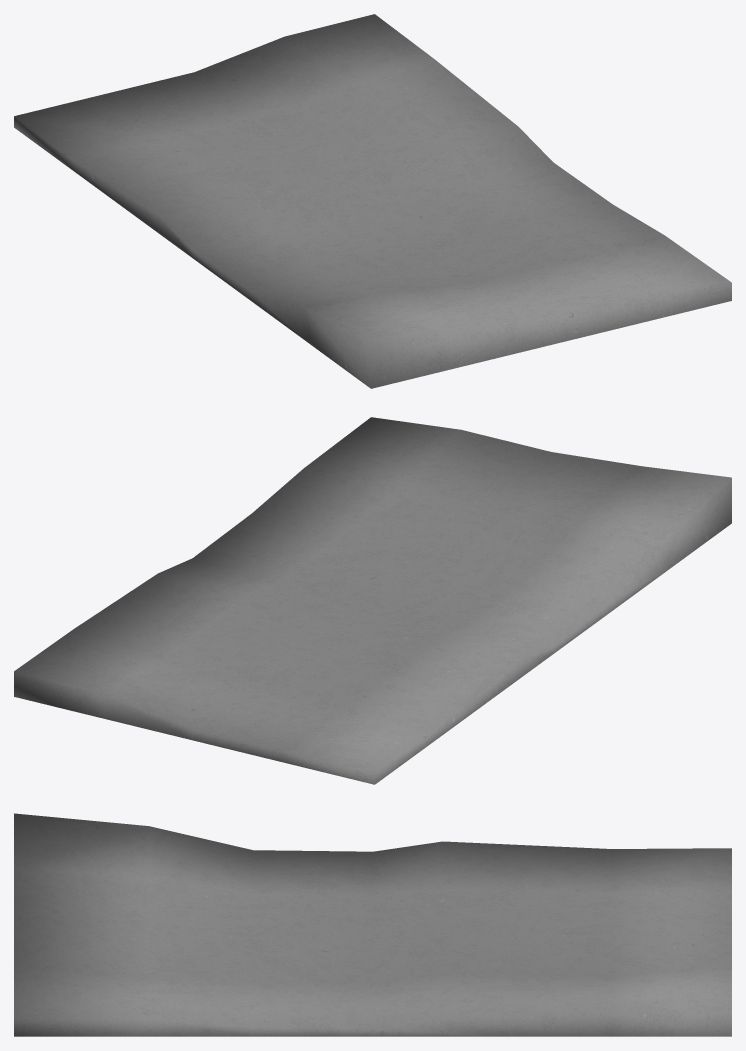
File: Homeworld_Interior_Common_Thing_Prop_Fishbowl_02_Vo.fbx
3 views of the same model, one above another, from view 1: azimuth 30°, elevation 25°; view 2: azimuth 150°, elevation 25°; view 3: azimuth 270°, elevation 25° (orthographic).
Parts seen in each view (by area): view 1: Homeworld_Interior_Common_Thing_Prop_Fishbowl_02_Vo; view 2: Homeworld_Interior_Common_Thing_Prop_Fishbowl_02_Vo; view 3: Homeworld_Interior_Common_Thing_Prop_Fishbowl_02_Vo.
Part boxes in pixels (x1,y1,x2,y2): Homeworld_Interior_Common_Thing_Prop_Fishbowl_02_Vo: (14,14,731,388); Homeworld_Interior_Common_Thing_Prop_Fishbowl_02_Vo: (14,417,731,784); Homeworld_Interior_Common_Thing_Prop_Fishbowl_02_Vo: (14,813,731,1036).
Bounding box in the file's own units: 3.43 × 0.4166 × 5.88.
1 material, 1 textured.
